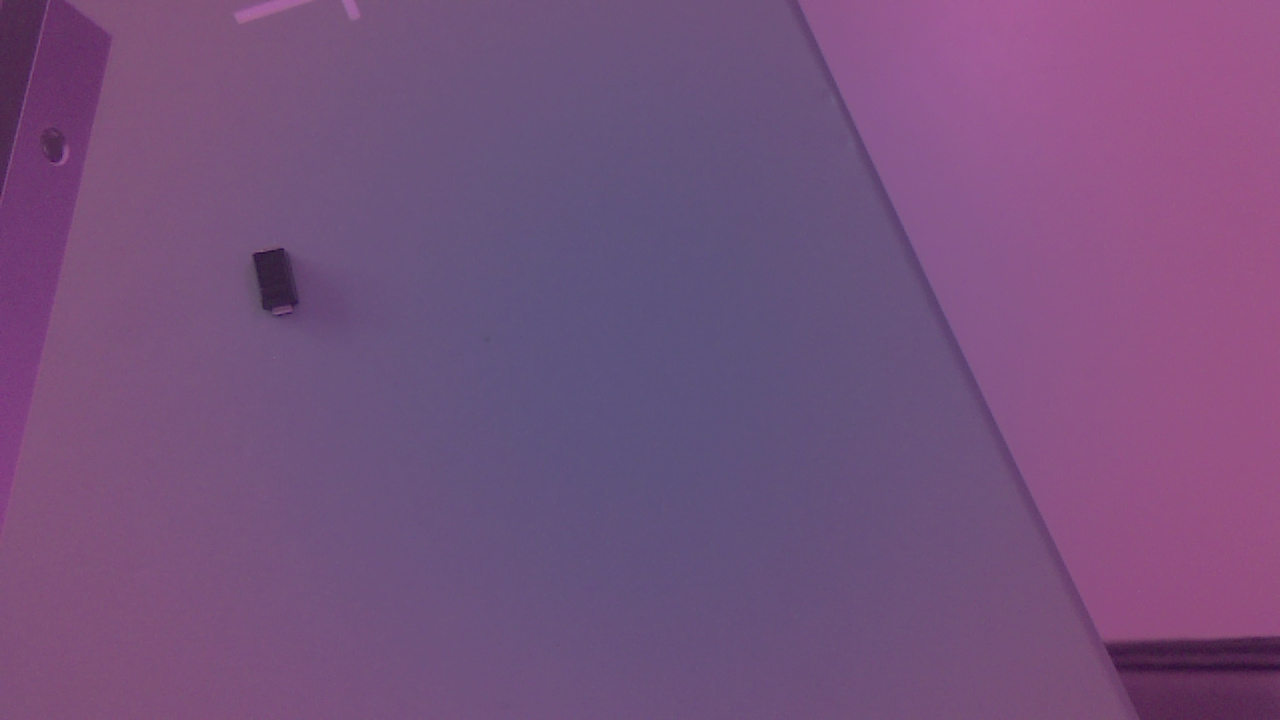Diode: (247, 245, 306, 332)
